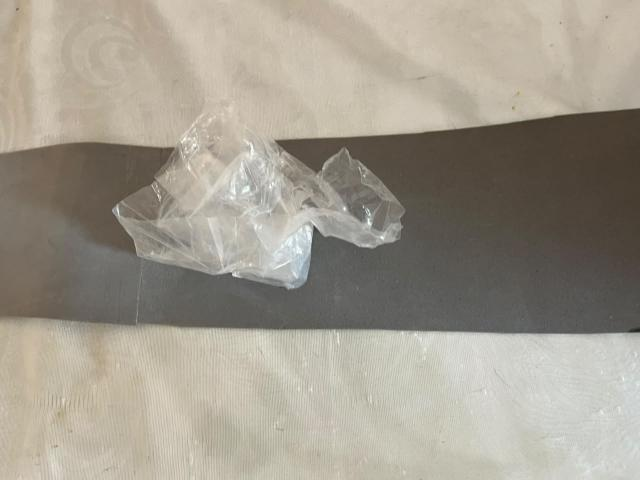LDPE: (82, 94, 502, 355)
